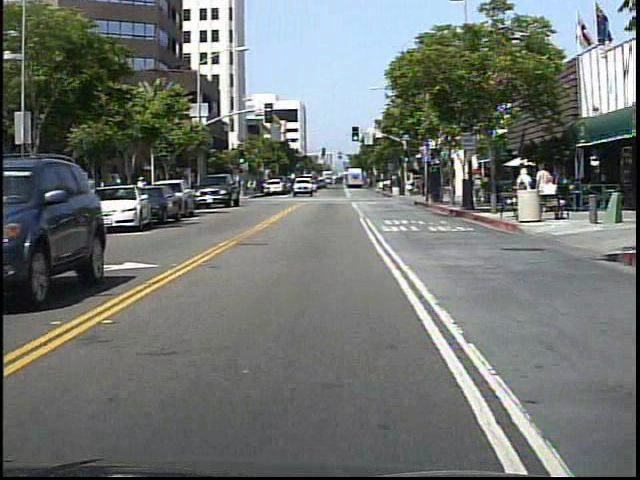person: (246, 176, 259, 200)
